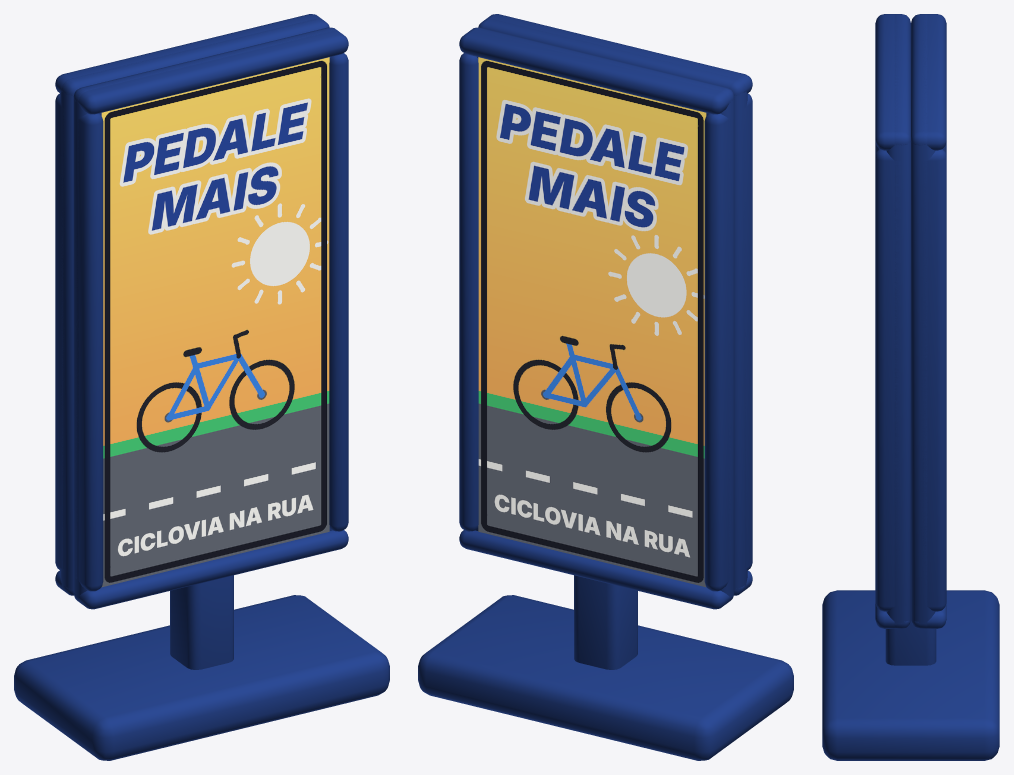
Rendered from vertical_pedale_mais.glb.
3 views of the same model, side by side, from view 1: azimuth 30°, elevation 25°; view 2: azimuth 150°, elevation 25°; view 3: azimuth 270°, elevation 25° (orthographic). The views are drawn at different scales.
Visible parts, largest first — view 1: vertical_pedale_mais; view 2: vertical_pedale_mais; view 3: vertical_pedale_mais.
Boxes of the visible parts, x1,y1,x2,y2 form: vertical_pedale_mais: [14, 14, 389, 760]; vertical_pedale_mais: [418, 14, 793, 760]; vertical_pedale_mais: [822, 14, 999, 760].
Bounding box in the file's own units: 1.3 × 2.71 × 0.7.
Materials: 2 (2 with a texture image).
